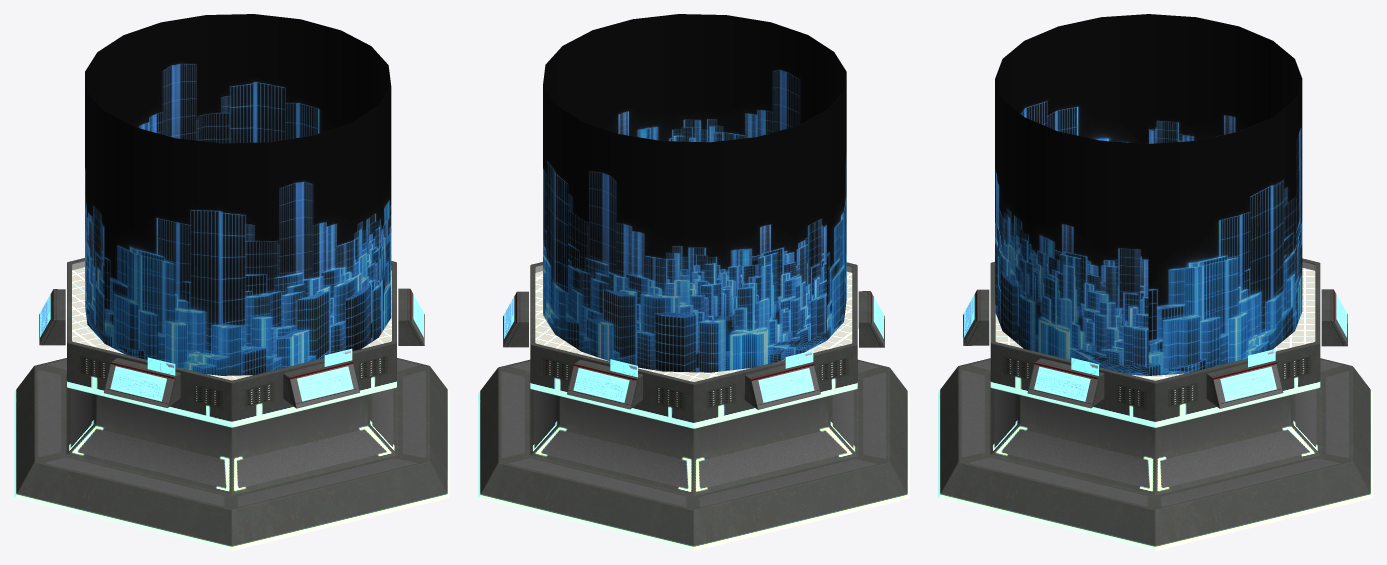
File: Hologram.fbx
The picture shows the model from 3 angles, left to right: view 1: azimuth 30°, elevation 25°; view 2: azimuth 150°, elevation 25°; view 3: azimuth 270°, elevation 25°; orthographic projection.
Visible parts, largest first — view 1: Hologram, Table; view 2: Hologram, Table; view 3: Hologram, Table.
Part boxes in pixels (left/top/right/bottom): Hologram: left=85, top=14, right=391, bottom=375; Table: left=14, top=258, right=449, bottom=550; Hologram: left=543, top=14, right=846, bottom=372; Table: left=478, top=262, right=909, bottom=550; Hologram: left=995, top=14, right=1302, bottom=375; Table: left=938, top=258, right=1372, bottom=550.
Bounding box in the file's own units: 349 × 282 × 303.
